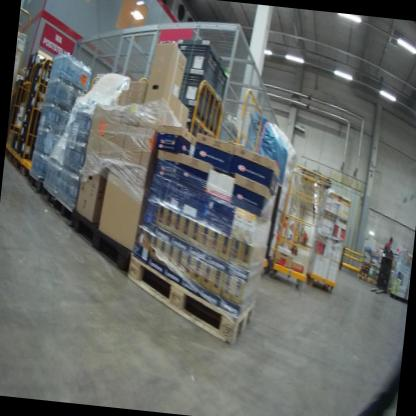pallet: (117, 245, 265, 349), (67, 211, 136, 273), (37, 179, 82, 234), (23, 166, 47, 198)
pallet_truck: (370, 250, 396, 302)
